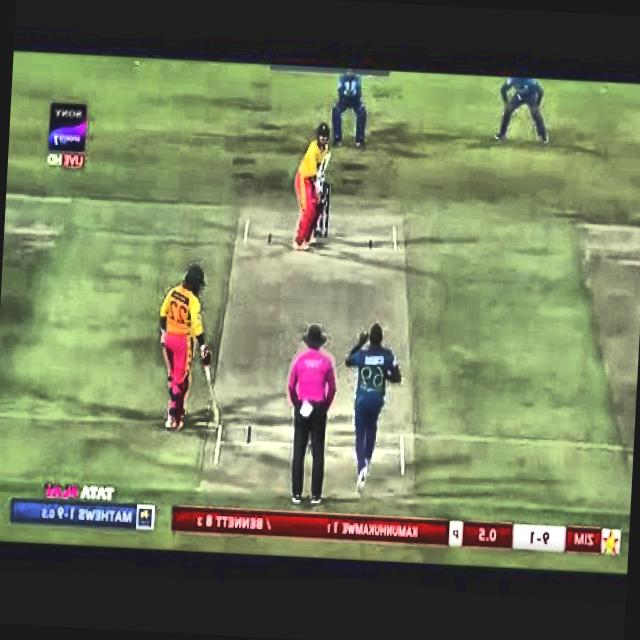Left-stump: (324, 185, 329, 238)
Middle-stump: (319, 212, 323, 238)
Right-stump: (312, 225, 318, 237)
